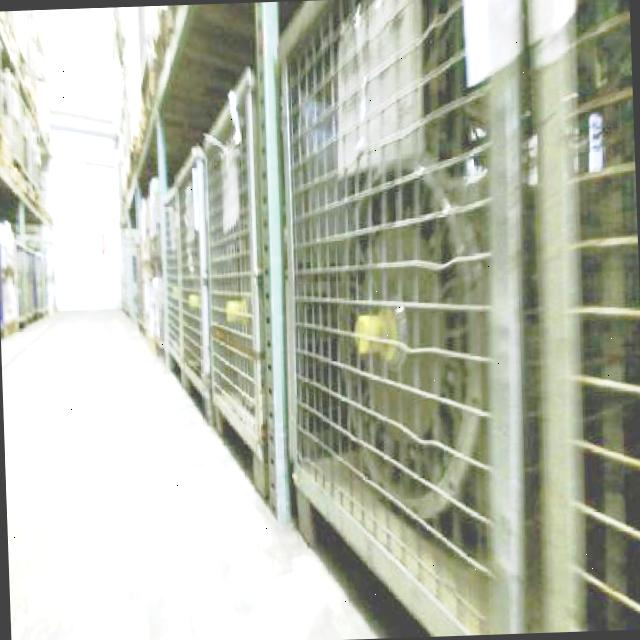ground: (1, 292, 434, 640)
pallet: (109, 0, 640, 640), (0, 9, 73, 640)
